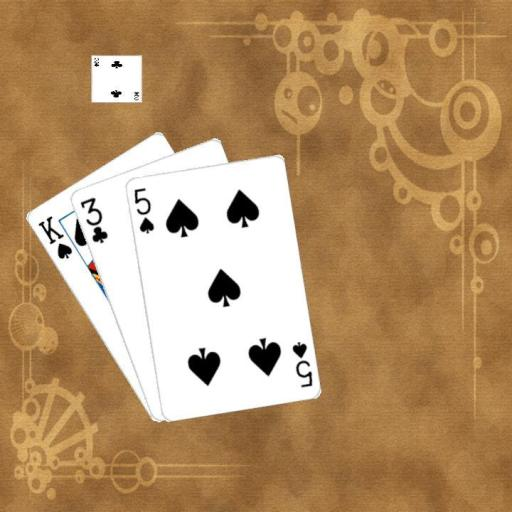3C: (76, 194, 109, 245)
5S: (130, 184, 155, 235), (289, 338, 314, 388)
KS: (34, 213, 74, 261)
